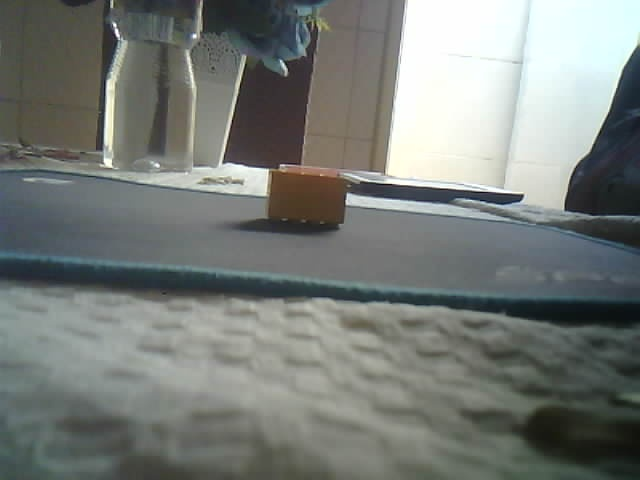lego: (264, 168, 347, 229)
